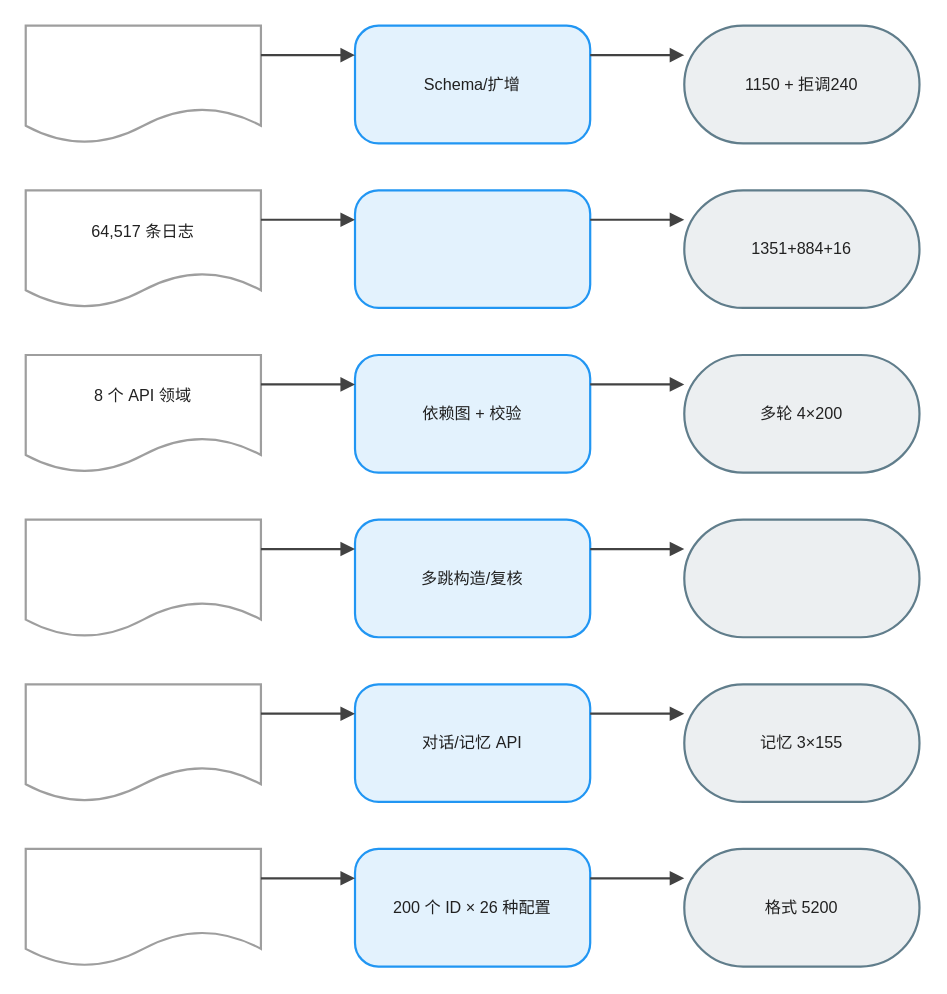
The diagram is 947 pixels wide and 994 high, and some of its shapes have lost their labels. The centre of each missing label's shape, as x and y in pixels:
"2351 条候选" goes at pixel 142 907.
"5 个使用领域" goes at pixel 142 742.
"Active AST题源" goes at pixel 142 84.
"去重/校验" goes at pixel 472 248.
"搜索 2×100" goes at pixel 801 578.
"近期稳定事实" goes at pixel 142 578.
